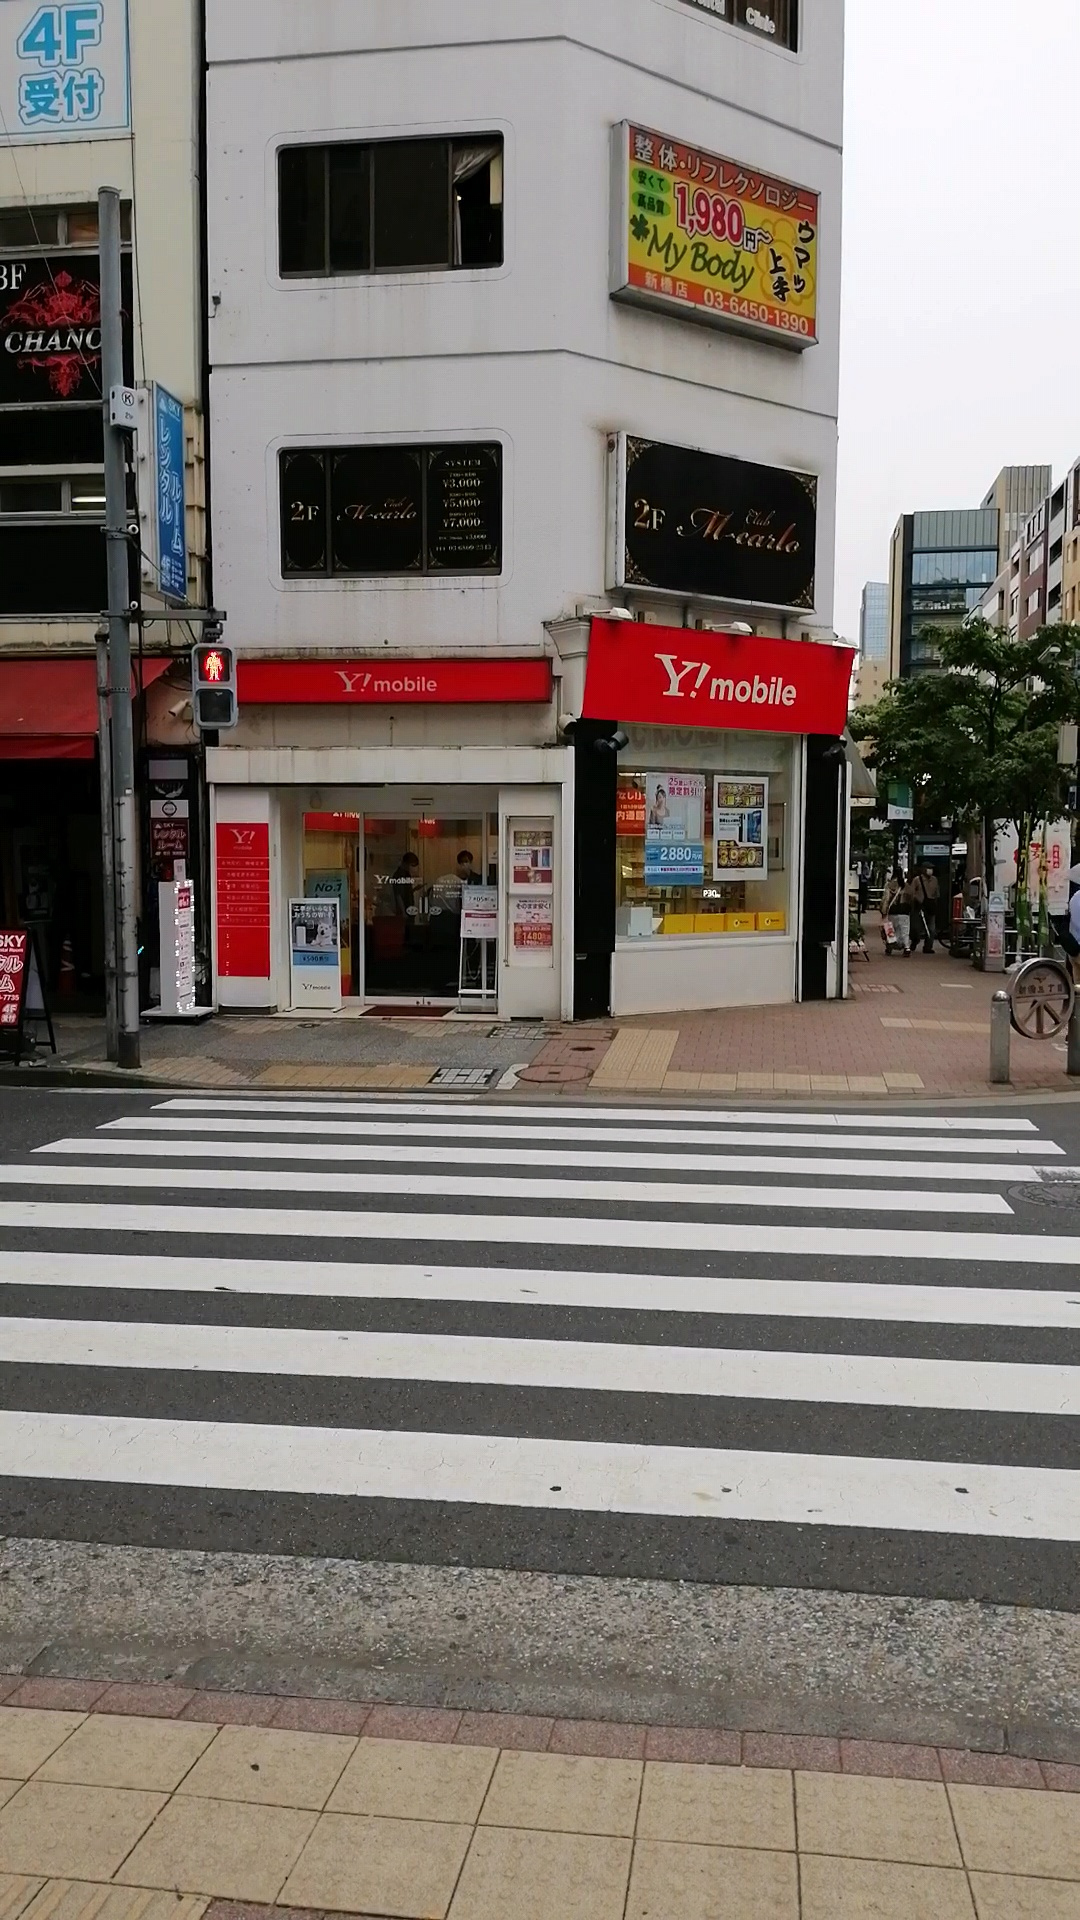red: (190, 645, 237, 732)
